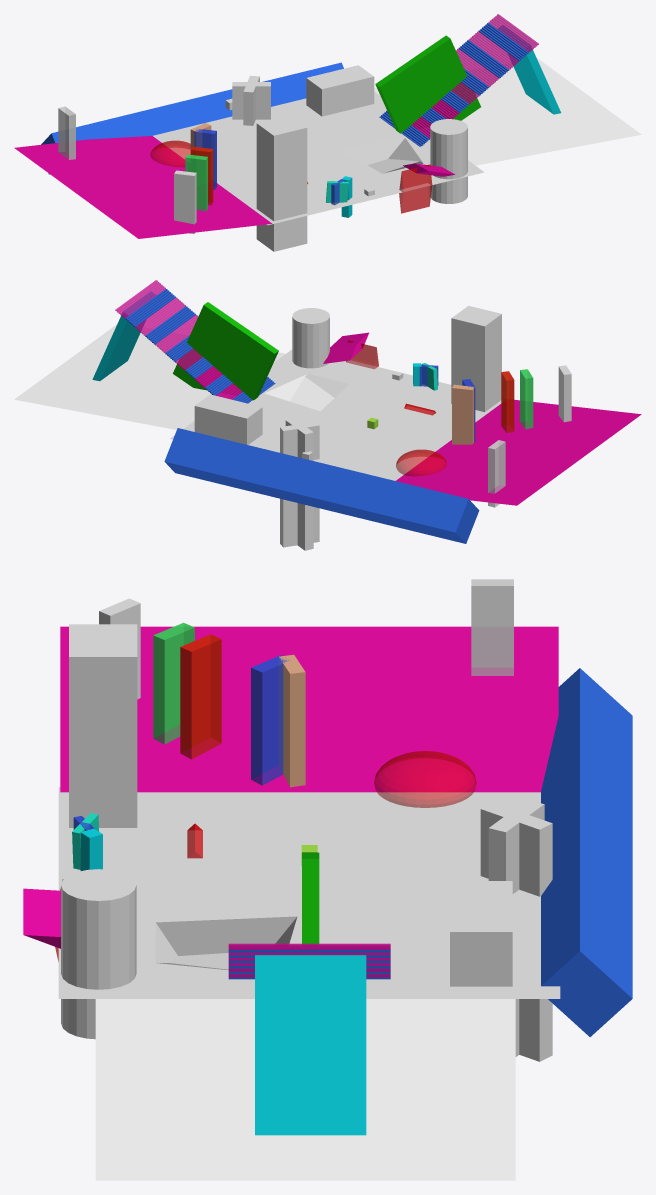
File: map04.gltf
The picture shows the model from 3 angles, top to bottom: view 1: azimuth 30°, elevation 25°; view 2: azimuth 150°, elevation 25°; view 3: azimuth 270°, elevation 25°; orthographic projection. The views are drawn at different scales.
Parts seen in each view (by area): view 1: map04, Плоскость.001, Plane, Cube.004, Cube.113, Cube.001, Cube.109, Куб.003, Куб, Куб.005, Сфера, Куб.002 (+7 smaller); view 2: map04, Cube.004, Плоскость.001, Plane, Cube.113, Cube.001, Куб.010, Сфера, Куб, Куб.005, Cube.110, Куб.001 (+5 smaller); view 3: map04, Plane, Плоскость.001, Cube.004, Cube.001, Куб.001, Куб.006, Сфера, Куб, Куб.005, Куб.004, Куб.009 (+7 smaller).
Part boxes in pixels (x1=…): map04: x1=153, y1=65, x2=484, y2=251; Плоскость.001: x1=14, y1=136, x2=272, y2=238; Plane: x1=374, y1=58, x2=641, y2=165; Cube.004: x1=41, y1=62, x2=343, y2=174; Cube.113: x1=375, y1=35, x2=480, y2=133; Cube.001: x1=498, y1=25, x2=561, y2=114; Cube.109: x1=399, y1=164, x2=432, y2=213; Куб.003: x1=174, y1=170, x2=196, y2=233; Куб: x1=58, y1=106, x2=75, y2=159; Куб.005: x1=58, y1=107, x2=75, y2=159; Сфера: x1=150, y1=140, x2=190, y2=167; Куб.002: x1=185, y1=154, x2=207, y2=211; map04: x1=170, y1=305, x2=501, y2=550; Cube.004: x1=164, y1=428, x2=479, y2=543; Плоскость.001: x1=396, y1=399, x2=641, y2=505; Plane: x1=14, y1=324, x2=285, y2=429; Cube.113: x1=173, y1=302, x2=278, y2=400; Cube.001: x1=92, y1=292, x2=155, y2=381; Куб.010: x1=452, y1=384, x2=474, y2=444; Сфера: x1=396, y1=449, x2=446, y2=476; Куб: x1=488, y1=440, x2=505, y2=507; Куб.005: x1=488, y1=440, x2=505, y2=507; Cube.110: x1=323, y1=332, x2=368, y2=363; Куб.001: x1=501, y1=371, x2=514, y2=432; map04: x1=58, y1=624, x2=560, y2=1061; Plane: x1=95, y1=999, x2=515, y2=1180; Плоскость.001: x1=60, y1=626, x2=558, y2=792; Cube.004: x1=541, y1=668, x2=632, y2=1036; Cube.001: x1=255, y1=955, x2=366, y2=1135; Куб.001: x1=180, y1=634, x2=221, y2=759; Куб.006: x1=180, y1=635, x2=221, y2=758; Сфера: x1=374, y1=751, x2=476, y2=807; Куб: x1=471, y1=579, x2=513, y2=675; Куб.005: x1=471, y1=579, x2=513, y2=675; Куб.004: x1=251, y1=655, x2=288, y2=785; Куб.009: x1=251, y1=655, x2=283, y2=784.
Size of the model in its own units: 147 by 46.25 by 75.94.
